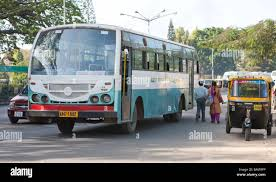bus: (25, 22, 205, 134)
